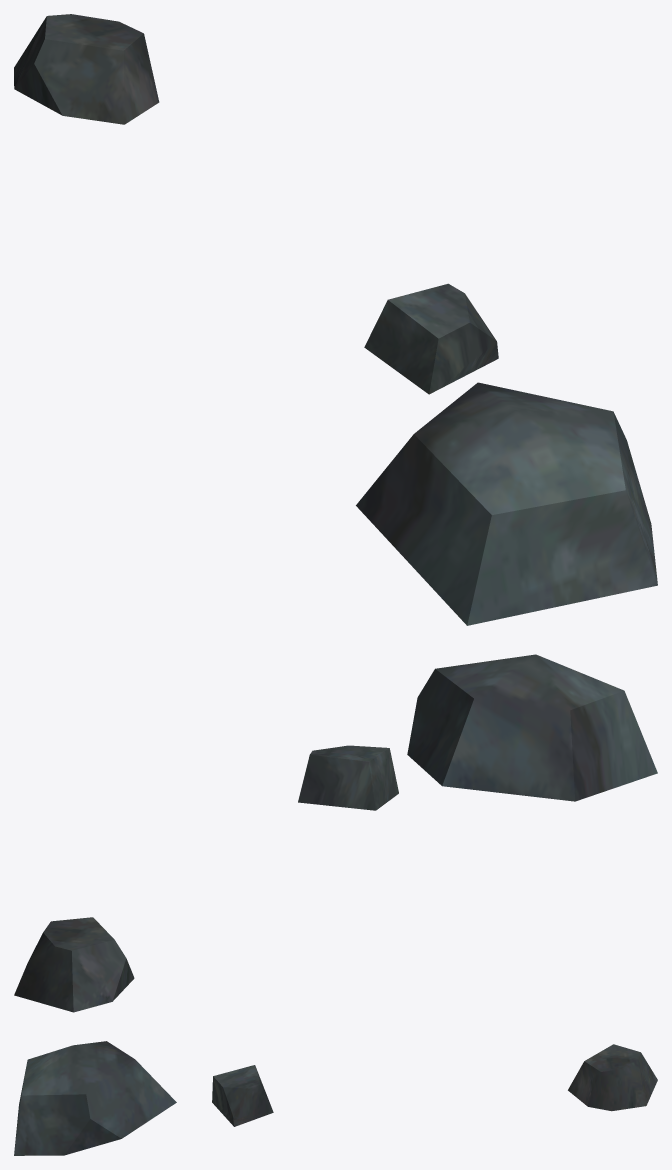
File: object_rubble34.fbx
3 renders of one model, top to bottom at view 1: azimuth 30°, elevation 25°; view 2: azimuth 150°, elevation 25°; view 3: azimuth 270°, elevation 25°, orthographic. The views are drawn at different scales.
Parts seen in each view (by area): view 1: Material_#238683587/cliffside; view 2: Material_#238683587/cliffside; view 3: Material_#238683587/cliffside.
Boxes of the visible parts, x1=… form: Material_#238683587/cliffside: x1=14, y1=14, x2=657, y2=625; Material_#238683587/cliffside: x1=14, y1=654, x2=657, y2=1012; Material_#238683587/cliffside: x1=14, y1=1041, x2=657, y2=1155.
Size of the model in its own units: 0.6031 by 0.4149 by 2.62.
